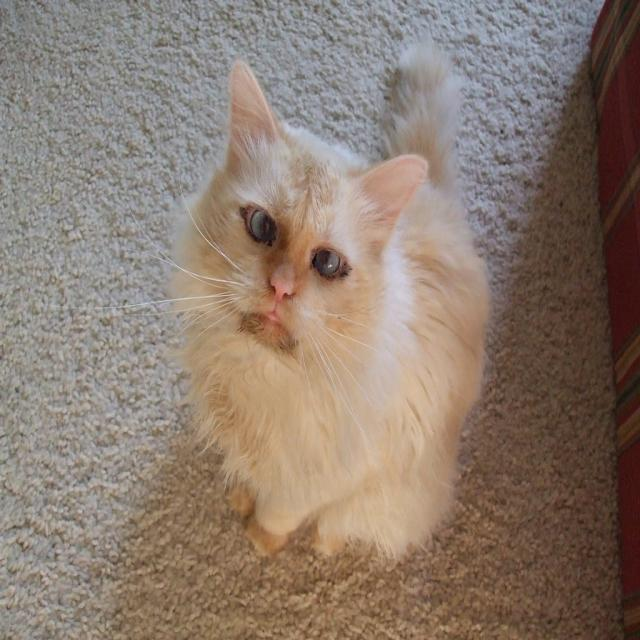Cat: (43, 39, 491, 563)
